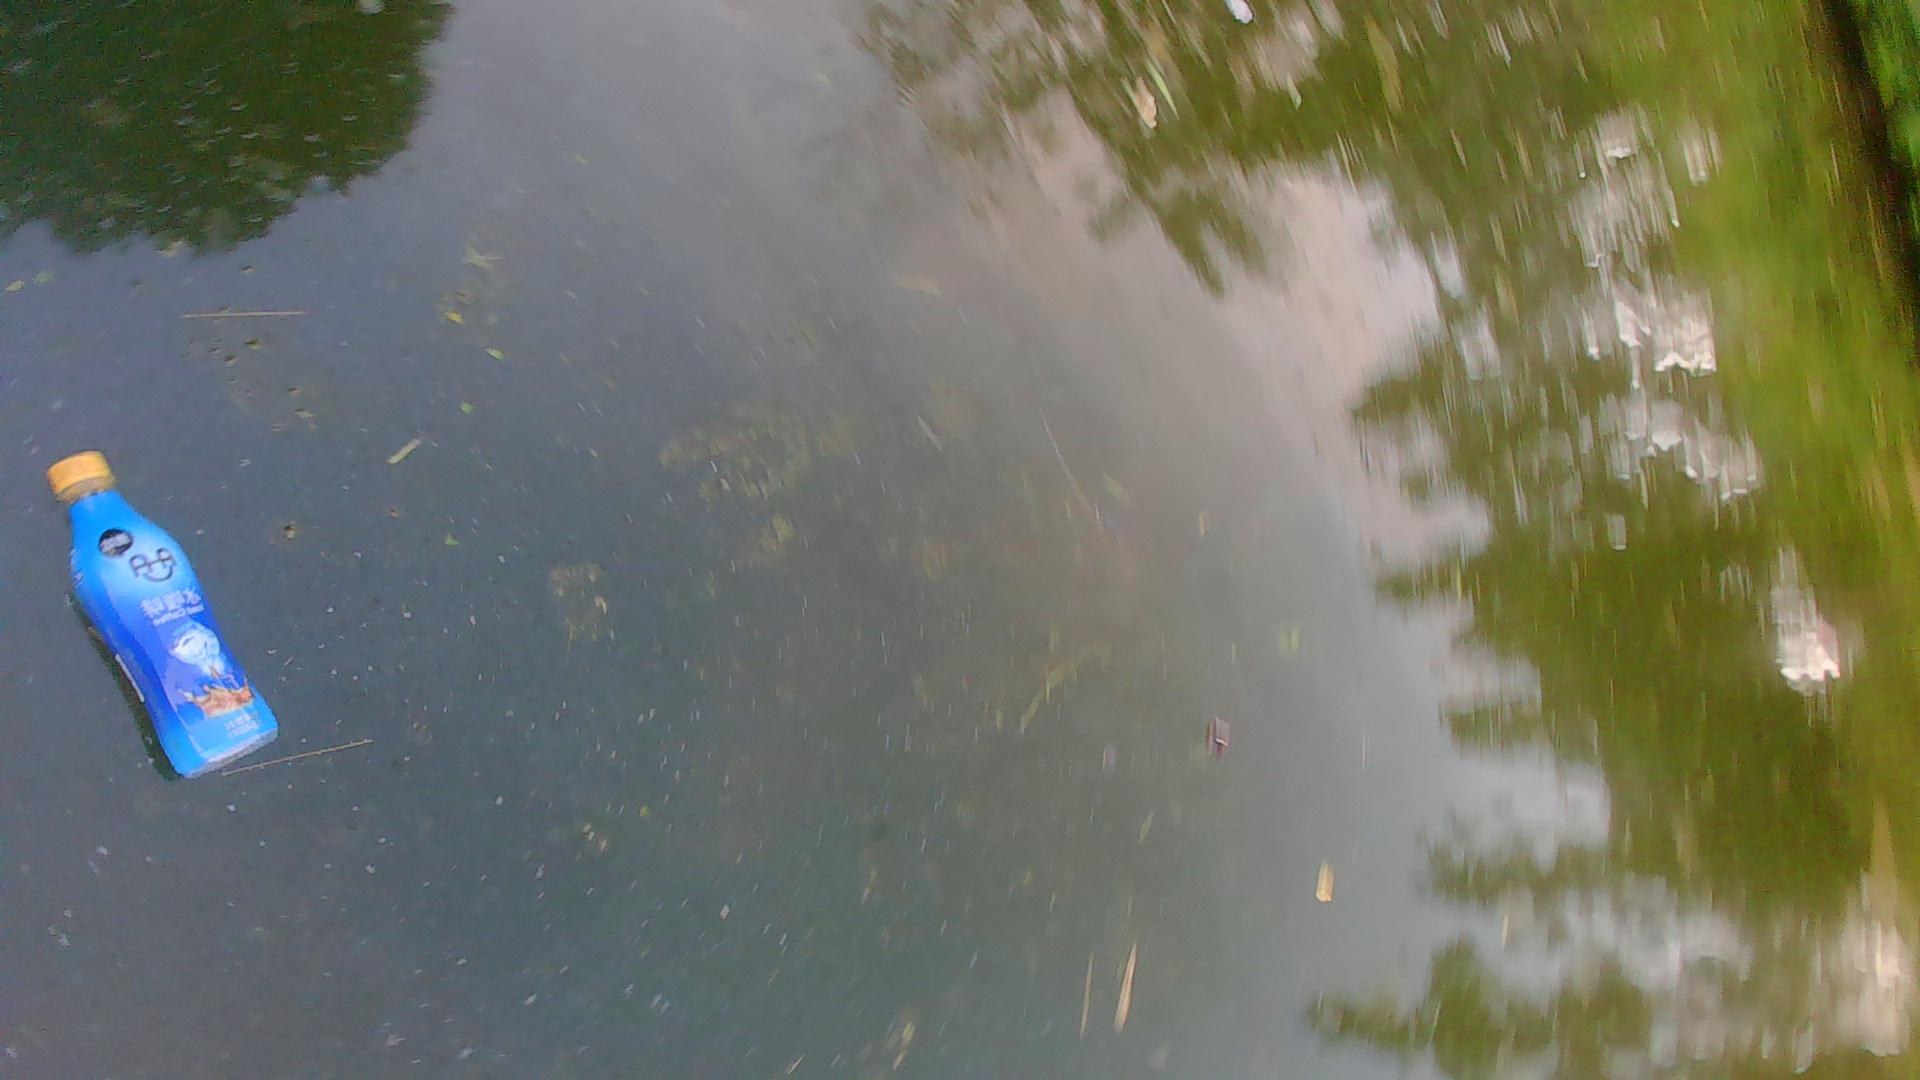Plastic: (41, 450, 285, 789)
